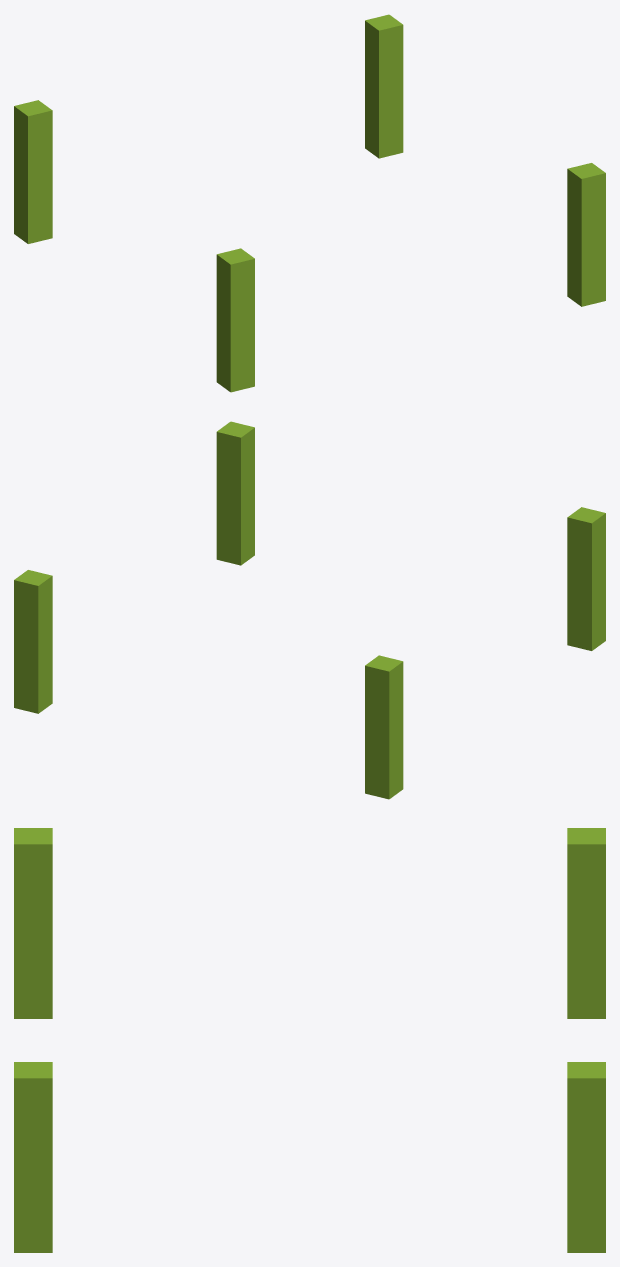
File: BuildDestroy.obj
The picture shows the model from 3 angles, top to bottom: view 1: azimuth 30°, elevation 25°; view 2: azimuth 150°, elevation 25°; view 3: azimuth 270°, elevation 25°; orthographic projection. The views are drawn at different scales.
Parts seen in each view (by area): view 1: Cube.086; view 2: Cube.086; view 3: Cube.086.
Part boxes in pixels (x1,y1,x2,y2): Cube.086: [14, 14, 605, 392]; Cube.086: [14, 421, 605, 799]; Cube.086: [14, 828, 605, 1252].
Bounding box in the file's own units: 1.07 × 0.3482 × 1.07.
